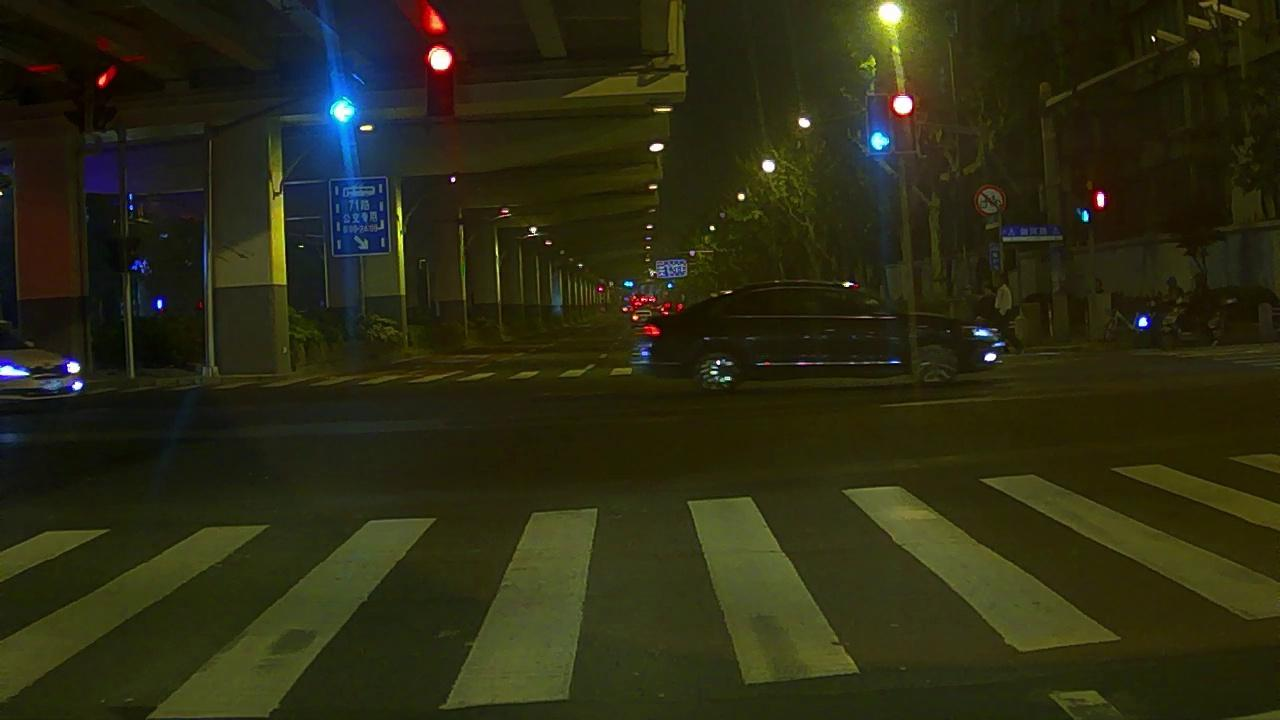traffic_light: (428, 45, 452, 113), (890, 94, 912, 151), (867, 94, 888, 153), (331, 98, 353, 123)
